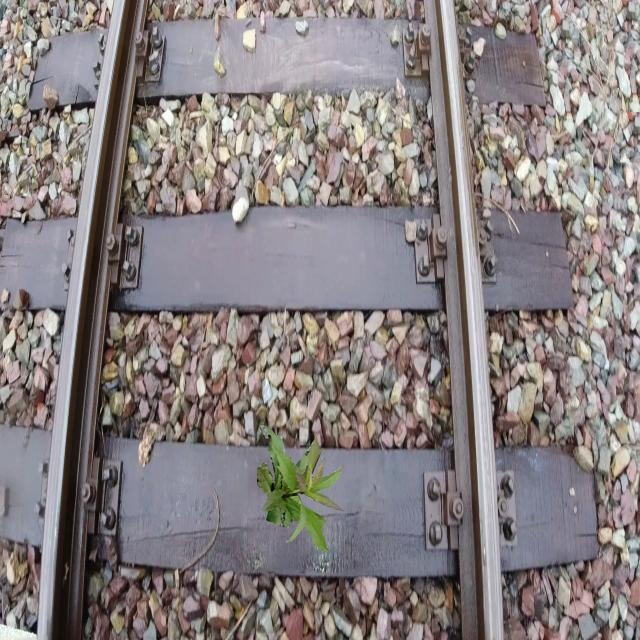Plant: (257, 424, 346, 554)
